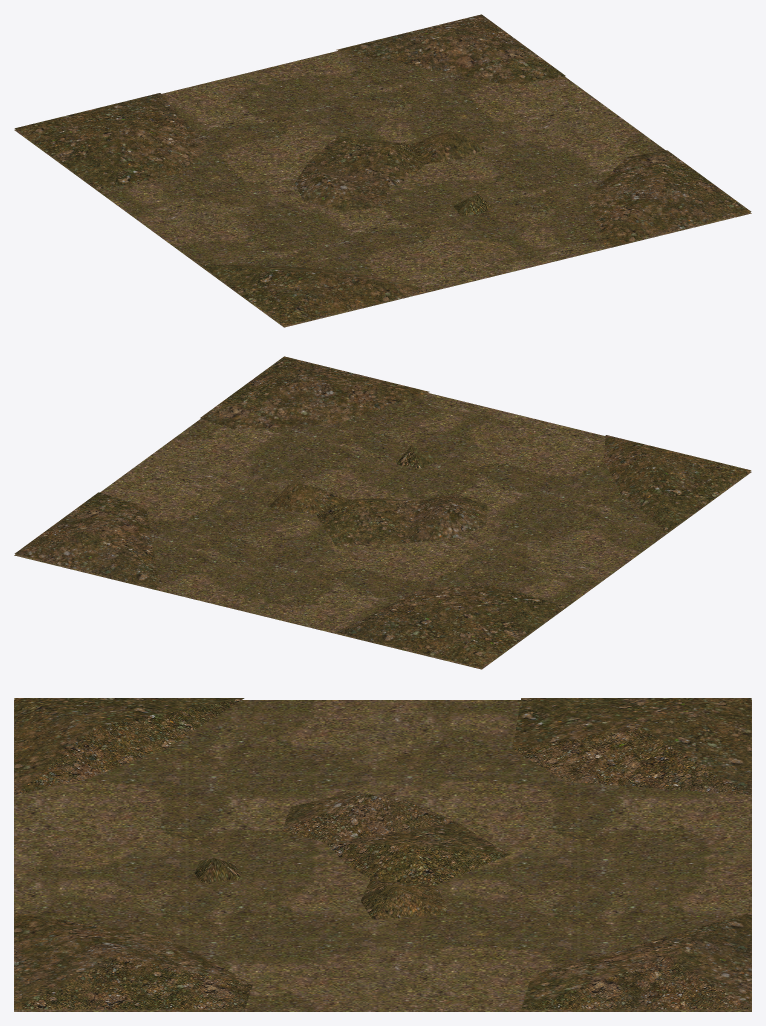
The model's file is Garden_07_Art.fbx.
3 renders of one model, top to bottom at view 1: azimuth 30°, elevation 25°; view 2: azimuth 150°, elevation 25°; view 3: azimuth 270°, elevation 25°, orthographic. The views are drawn at different scales.
Visible parts, largest first — view 1: Garden_07_Art; view 2: Garden_07_Art; view 3: Garden_07_Art.
Boxes of the visible parts, left/top/right/bottom form: Garden_07_Art: left=14, top=14, right=751, bottom=327; Garden_07_Art: left=14, top=356, right=751, bottom=669; Garden_07_Art: left=14, top=698, right=751, bottom=1011.
Bounding box in the file's own units: 1598 × 50.07 × 1598.
